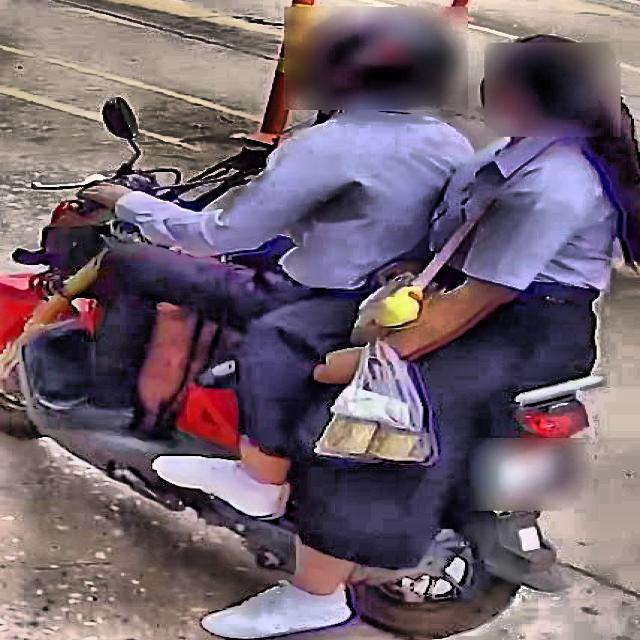motorcycle: (0, 93, 601, 632)
